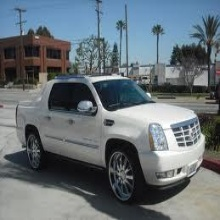no damage: (15, 72, 206, 203)
